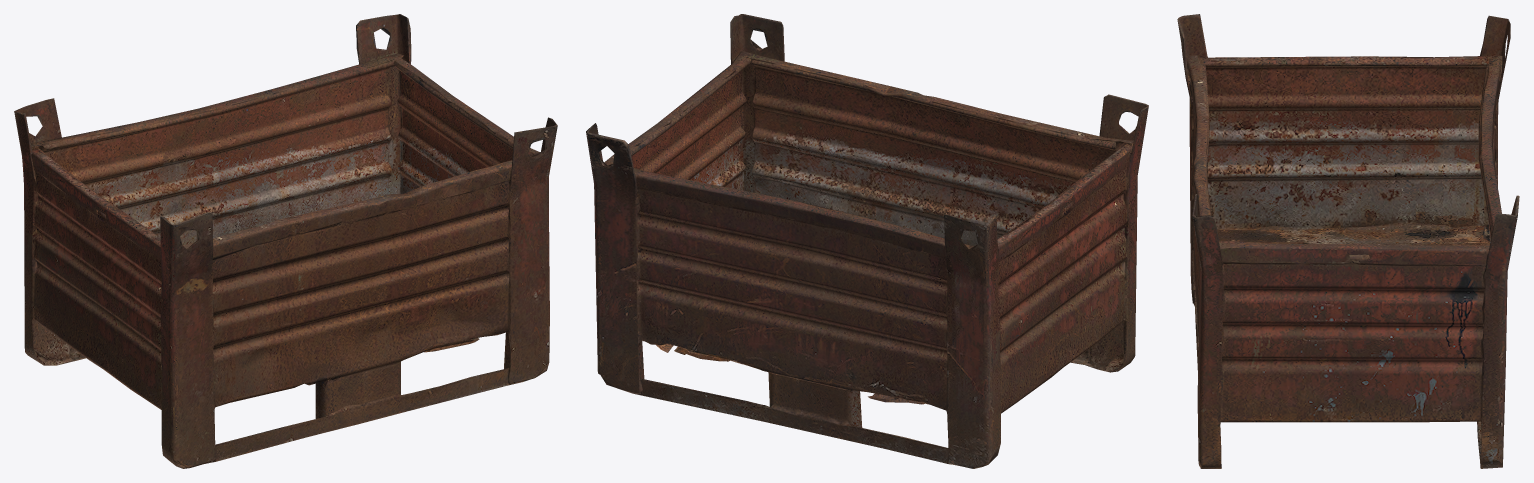
File: SM_Ind_Jun_Storage_Crate_Metal_Rusty_01.gltf
3 views of the same model, side by side, from view 1: azimuth 30°, elevation 25°; view 2: azimuth 150°, elevation 25°; view 3: azimuth 270°, elevation 25° (orthographic). The views are drawn at different scales.
Parts seen in each view (by area): view 1: SM_Ind_Jun_Storage_Crate_Metal_Rusty_01; view 2: SM_Ind_Jun_Storage_Crate_Metal_Rusty_01; view 3: SM_Ind_Jun_Storage_Crate_Metal_Rusty_01.
Part boxes in pixels (bbox=[...]): SM_Ind_Jun_Storage_Crate_Metal_Rusty_01: bbox=[14, 14, 557, 468]; SM_Ind_Jun_Storage_Crate_Metal_Rusty_01: bbox=[586, 14, 1148, 468]; SM_Ind_Jun_Storage_Crate_Metal_Rusty_01: bbox=[1177, 14, 1519, 468].
Size of the model in its own units: 1.23 by 0.7629 by 0.8855.
Materials: 1 (1 with a texture image).
